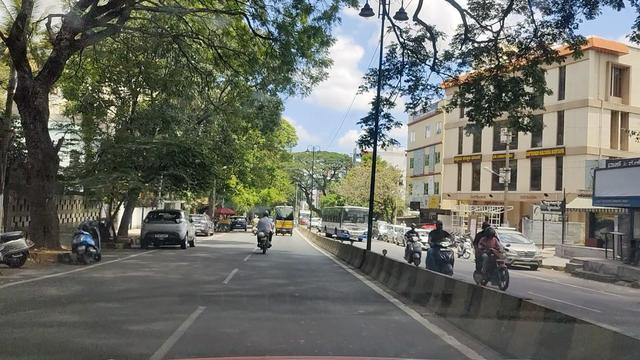LMV: (135, 211, 210, 252), (255, 208, 280, 256)
